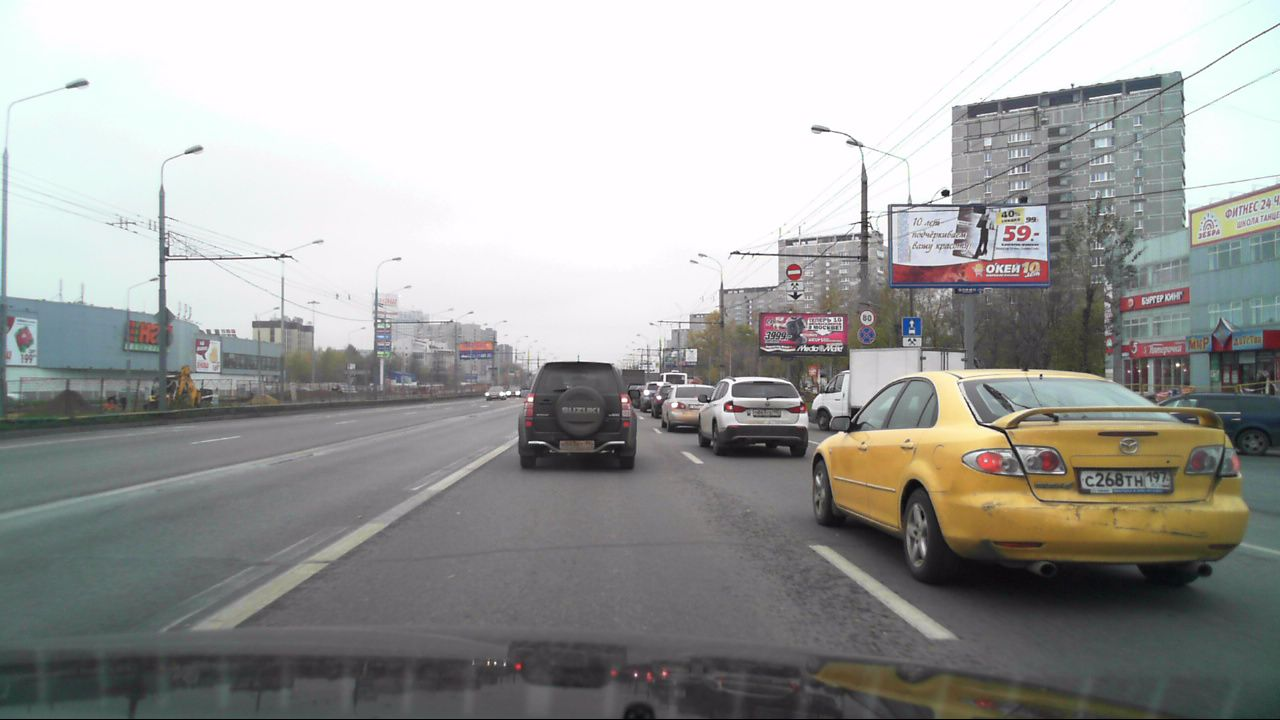No Parking: (857, 326, 875, 344)
